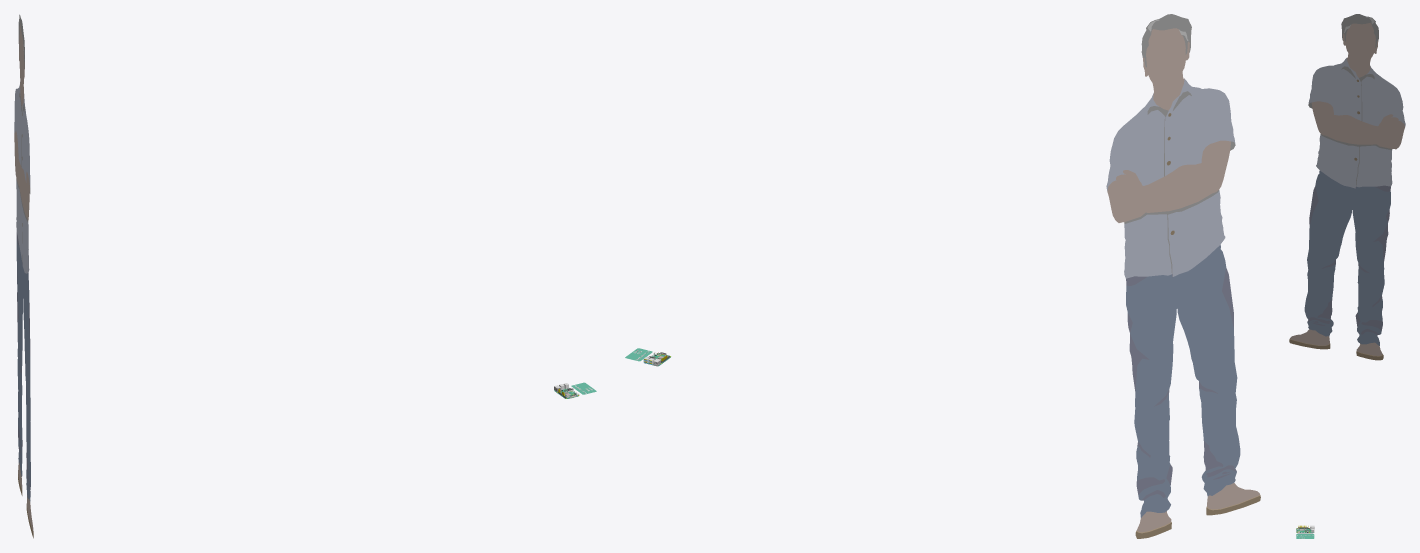
Rendered from raspberry_pi_4b_-_pi.glb.
3 renders of one model, left to right at view 1: azimuth 30°, elevation 25°; view 2: azimuth 150°, elevation 25°; view 3: azimuth 270°, elevation 25°, orthographic. The views are drawn at different scales.
Visible parts, largest first — view 1: Model; view 2: Model; view 3: Model.
Part boxes in pixels (x1=…): Model: x1=14, y1=14, x2=579, y2=538; Model: x1=653, y1=14, x2=1260, y2=538; Model: x1=1289, y1=14, x2=1405, y2=532.
Size of the model in its own units: 2236 by 1791 by 551.
